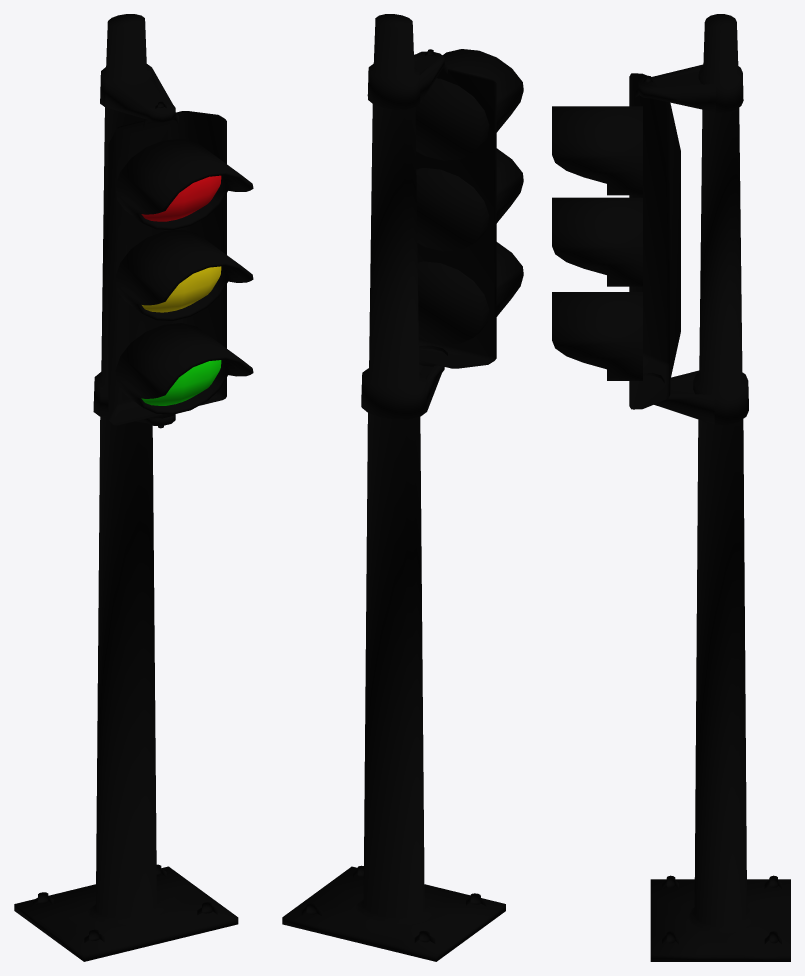
File: TrafficL.dae
3 views of the same model, side by side, from view 1: azimuth 30°, elevation 25°; view 2: azimuth 150°, elevation 25°; view 3: azimuth 270°, elevation 25° (orthographic).
Parts seen in each view (by area): view 1: Cylinder.001; view 2: Cylinder.001; view 3: Cylinder.001.
Part boxes in pixels (x1,y1,x2,y2): Cylinder.001: [14, 14, 253, 961]; Cylinder.001: [282, 14, 523, 961]; Cylinder.001: [552, 14, 790, 961].
Size of the model in its own units: 0.225 by 0.3 by 1.25.
